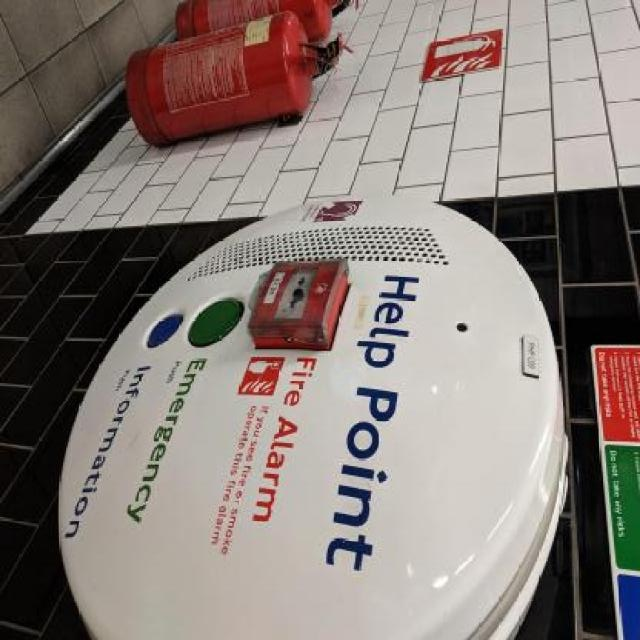fire extinguisher: (126, 10, 343, 147), (176, 0, 361, 45)
